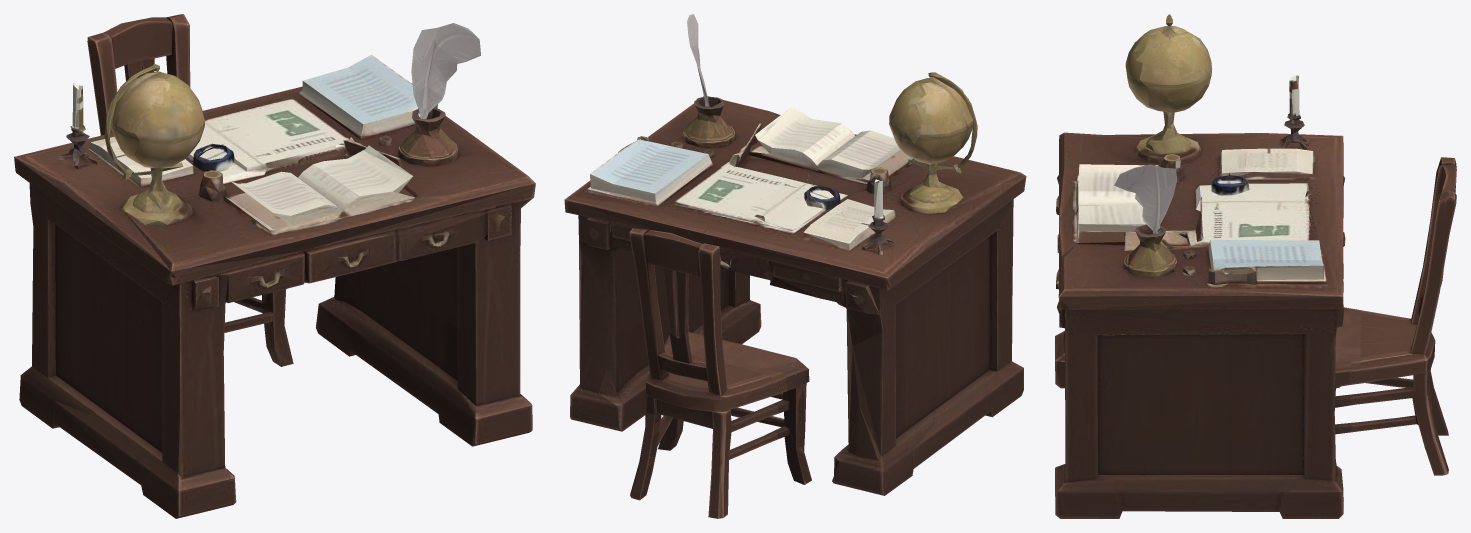
Rendered from desk.glb.
The picture shows the model from 3 angles, left to right: view 1: azimuth 30°, elevation 25°; view 2: azimuth 150°, elevation 25°; view 3: azimuth 270°, elevation 25°; orthographic projection. The views are drawn at different scales.
Parts seen in each view (by area): view 1: desk; view 2: desk; view 3: desk.
Part boxes in pixels (x1,y1,x2,y2): desk: (14,14,535,518); desk: (564,14,1026,518); desk: (1055,14,1456,518).
Bounding box in the file's own units: 1.41 × 1.5 × 1.46.
1 material, 1 textured.
